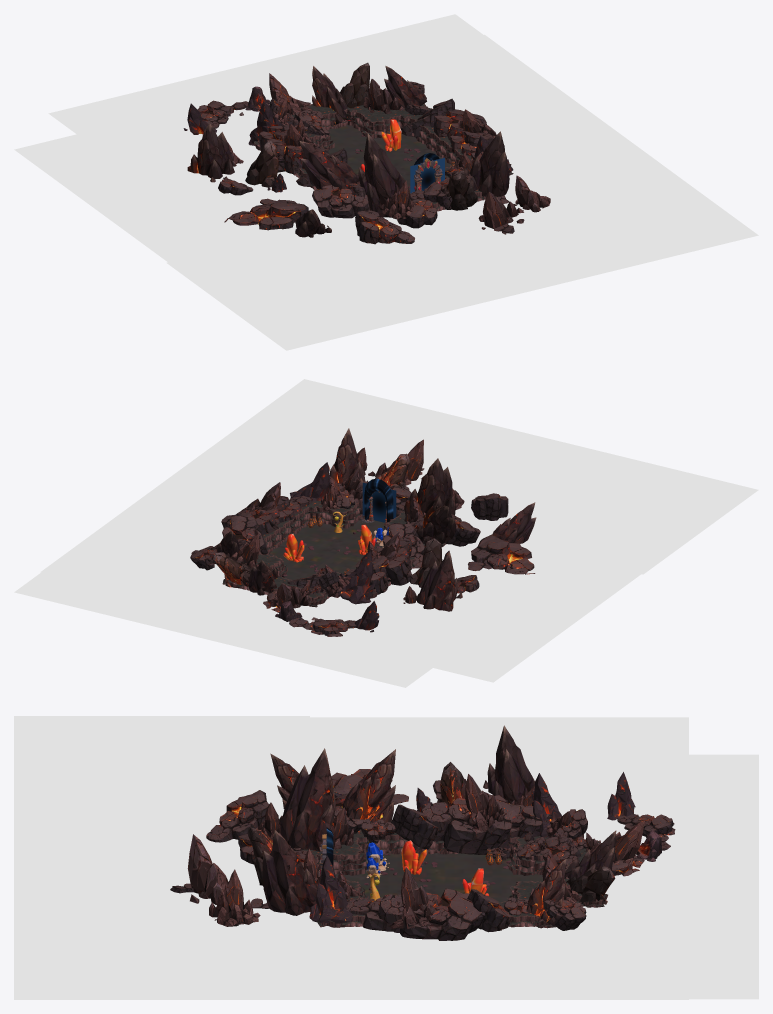
Rendered from LevelMap_1070701.glb.
3 renders of one model, top to bottom at view 1: azimuth 30°, elevation 25°; view 2: azimuth 150°, elevation 25°; view 3: azimuth 270°, elevation 25°, orthographic. The views are drawn at different scales.
Visible parts, largest first — view 1: EnvCavern_Detail__Lava_2__u1138, EnvCavern_Detail__Lava_1__u1261, EnvCavern_Detail__Lava_3__u1433, EnvCavern_Detail__Lava__u2040, LevelMap_1070701_Terrain__u1325, EnvCavern_Detail__Rock___2__u1793, EnvCavern_Detail__Rock___2__u1760, EnvCavern_Detail__Rock___2__u1212, EnvCavern_Detail__Rock___2__u1213, EnvCavern_Detail__Rock___3__u1809, EnvCavern_Detail__Rock___3__u1897, EnvCavern_Detail__Rock___3__u1364 (+18 smaller); view 2: EnvCavern_Detail__Lava_2__u1138, EnvCavern_Detail__Lava_1__u1261, EnvCavern_Detail__Lava_3__u1433, EnvCavern_Detail__Lava__u2040, LevelMap_1070701_Terrain__u1325, EnvCavern_Detail__Rock___3__u1809, EnvCavern_Detail__Rock___2__u1212, EnvCavern_Detail__Rock___2__u1793, EnvCavern_Detail__Rock___3__u1792, EnvCavern_Detail__Rock___2__u1213, EnvCavern_Detail__Rock___7__u1457, EnvCavern_Detail__Rock___2__u1760 (+18 smaller); view 3: EnvCavern_Detail__Lava_2__u1138, EnvCavern_Detail__Lava_3__u1433, EnvCavern_Detail__Lava__u2040, EnvCavern_Detail__Lava_1__u1261, LevelMap_1070701_Terrain__u1325, EnvCavern_Detail__Rock___2__u1793, EnvCavern_Detail__Rock___3__u1778, EnvCavern_Detail__Rock___3__u1792, EnvCavern_Detail__Rock___2__u1760, EnvCavern_Detail__Rock___2__u1213, EnvCavern_Detail__Rock___2__u1212, EnvCavern_Detail__Rock___3__u1364 (+30 smaller).
Boxes of the visible parts, x1,y1,x2,y2 form: EnvCavern_Detail__Lava_2__u1138: (166,147,758,350); EnvCavern_Detail__Lava_1__u1261: (14,98,358,278); EnvCavern_Detail__Lava_3__u1433: (48,14,532,167); EnvCavern_Detail__Lava__u2040: (341,34,660,199); LevelMap_1070701_Terrain__u1325: (327,124,451,192); EnvCavern_Detail__Rock___2__u1793: (356,133,410,217); EnvCavern_Detail__Rock___2__u1760: (463,131,509,196); EnvCavern_Detail__Rock___2__u1212: (187,123,234,182); EnvCavern_Detail__Rock___2__u1213: (299,141,359,189); EnvCavern_Detail__Rock___3__u1809: (224,199,308,230); EnvCavern_Detail__Rock___3__u1897: (312,185,369,218); EnvCavern_Detail__Rock___3__u1364: (355,210,414,244); EnvCavern_Detail__Lava_2__u1138: (189,379,758,574); EnvCavern_Detail__Lava_1__u1261: (290,509,662,682); EnvCavern_Detail__Lava_3__u1433: (14,546,479,687); EnvCavern_Detail__Lava__u2040: (40,448,315,606); LevelMap_1070701_Terrain__u1325: (268,516,385,580); EnvCavern_Detail__Rock___3__u1809: (471,534,535,574); EnvCavern_Detail__Rock___2__u1212: (417,551,462,611); EnvCavern_Detail__Rock___2__u1793: (404,458,455,516); EnvCavern_Detail__Rock___3__u1792: (355,537,411,585); EnvCavern_Detail__Rock___2__u1213: (414,505,456,544); EnvCavern_Detail__Rock___7__u1457: (338,550,375,604); EnvCavern_Detail__Rock___2__u1760: (327,428,368,514); EnvCavern_Detail__Lava_2__u1138: (14,716,309,999); EnvCavern_Detail__Lava_3__u1433: (567,754,758,999); EnvCavern_Detail__Lava__u2040: (255,911,688,999); EnvCavern_Detail__Lava_1__u1261: (255,717,688,840); LevelMap_1070701_Terrain__u1325: (335,853,542,902); EnvCavern_Detail__Rock___2__u1793: (280,748,340,851); EnvCavern_Detail__Rock___3__u1778: (377,888,485,940); EnvCavern_Detail__Rock___3__u1792: (420,793,521,854); EnvCavern_Detail__Rock___2__u1760: (262,830,318,915); EnvCavern_Detail__Rock___2__u1213: (342,749,395,835); EnvCavern_Detail__Rock___2__u1212: (483,725,534,803); EnvCavern_Detail__Rock___3__u1364: (206,790,268,842).
Size of the model in its own units: 55.43 by 12.77 by 61.48.
22 materials, 21 textured.
